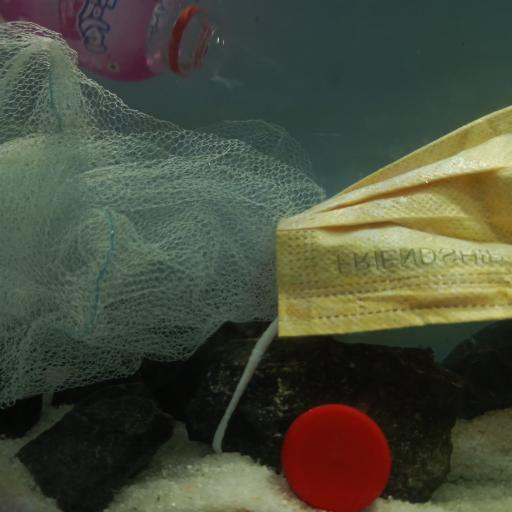bottle_cap: (280, 399, 394, 512)
mask: (220, 100, 512, 441)
net: (5, 25, 338, 403)
plastic_bottle: (2, 2, 235, 88)
